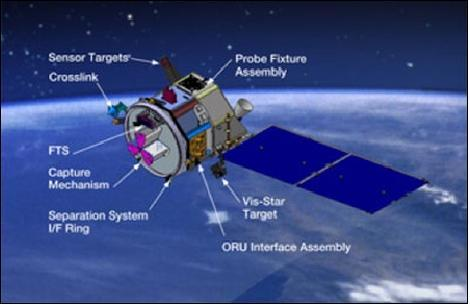body: (125, 70, 248, 179)
solar: (216, 124, 431, 216)
thruster: (233, 97, 256, 120)
